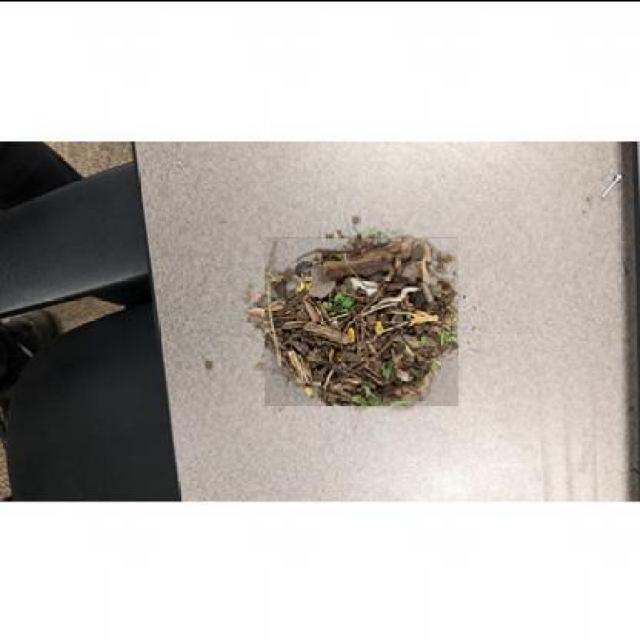dirt: (273, 300, 459, 389)
leaf: (356, 386, 419, 407), (418, 329, 458, 348), (329, 290, 358, 315)
